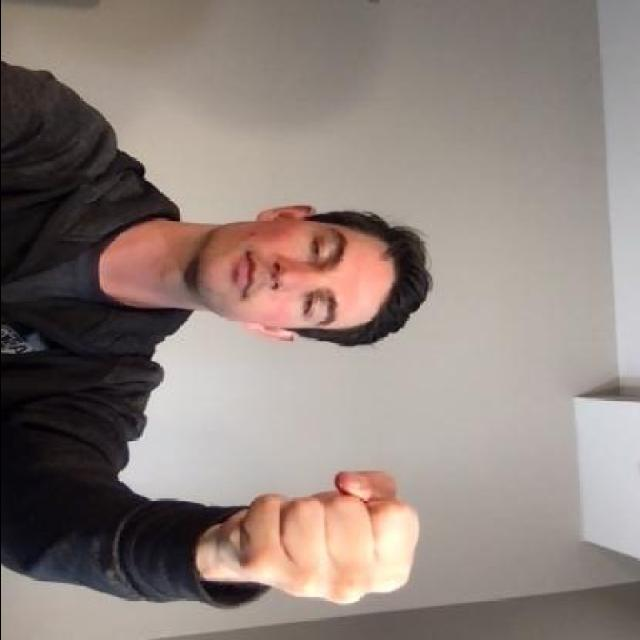Rock: (210, 464, 424, 614)
